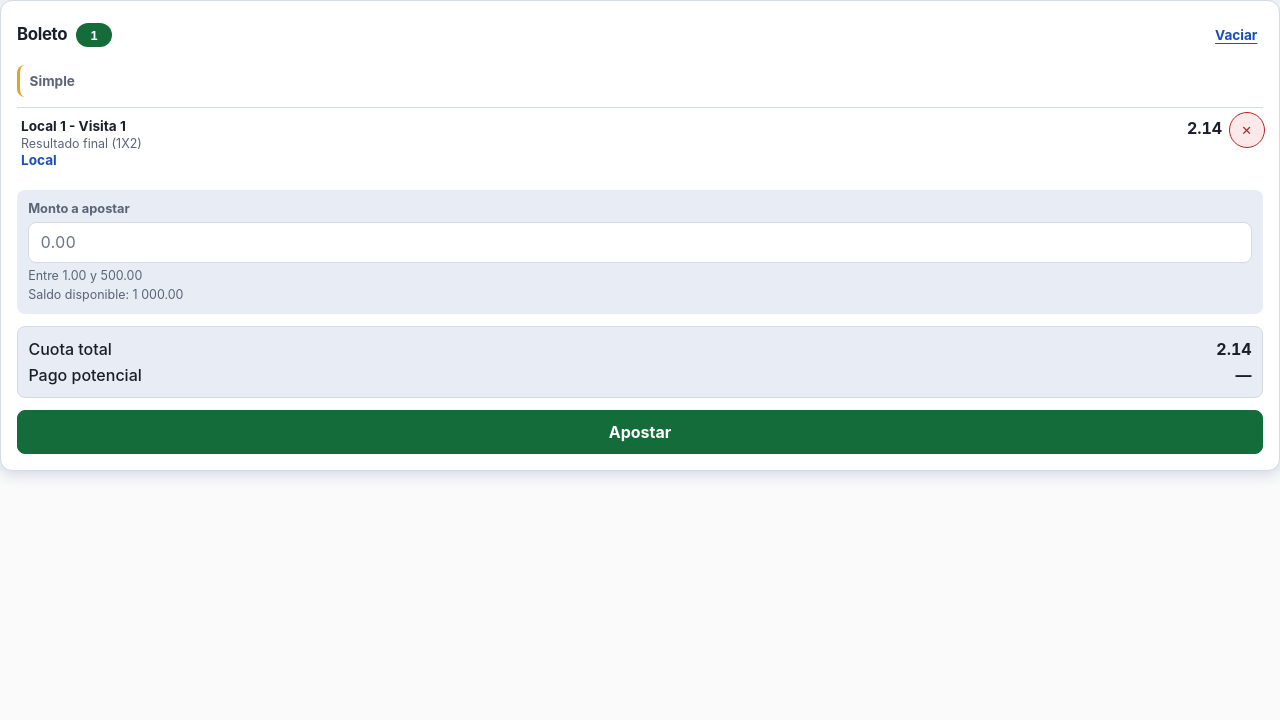
Scenario: BetSlipComponent › cuota cambiada: tacha la anterior, bloquea apostar hasta aceptar y luego apuesta
In the field with id "stake": {"x": 640, "y": 242} left=28, top=222, right=1252, bottom=263, type "10"
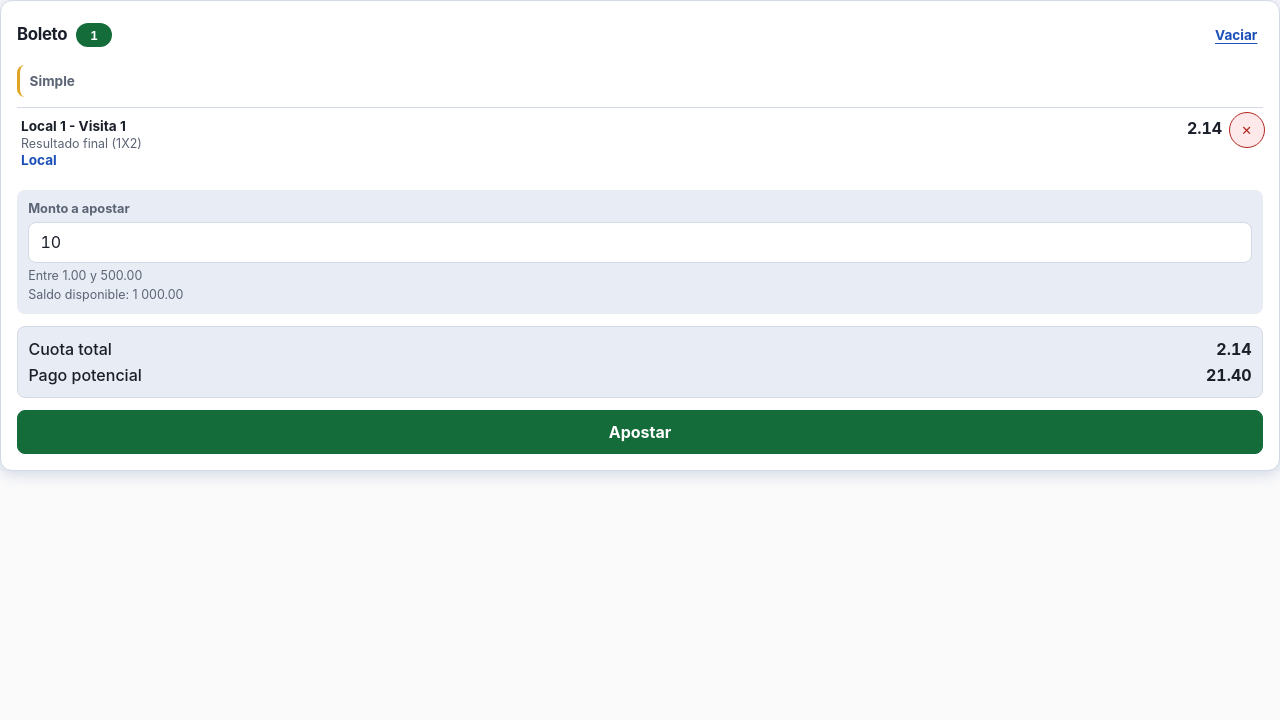
Click the button "Apostar": {"x": 640, "y": 432} left=17, top=410, right=1263, bottom=454
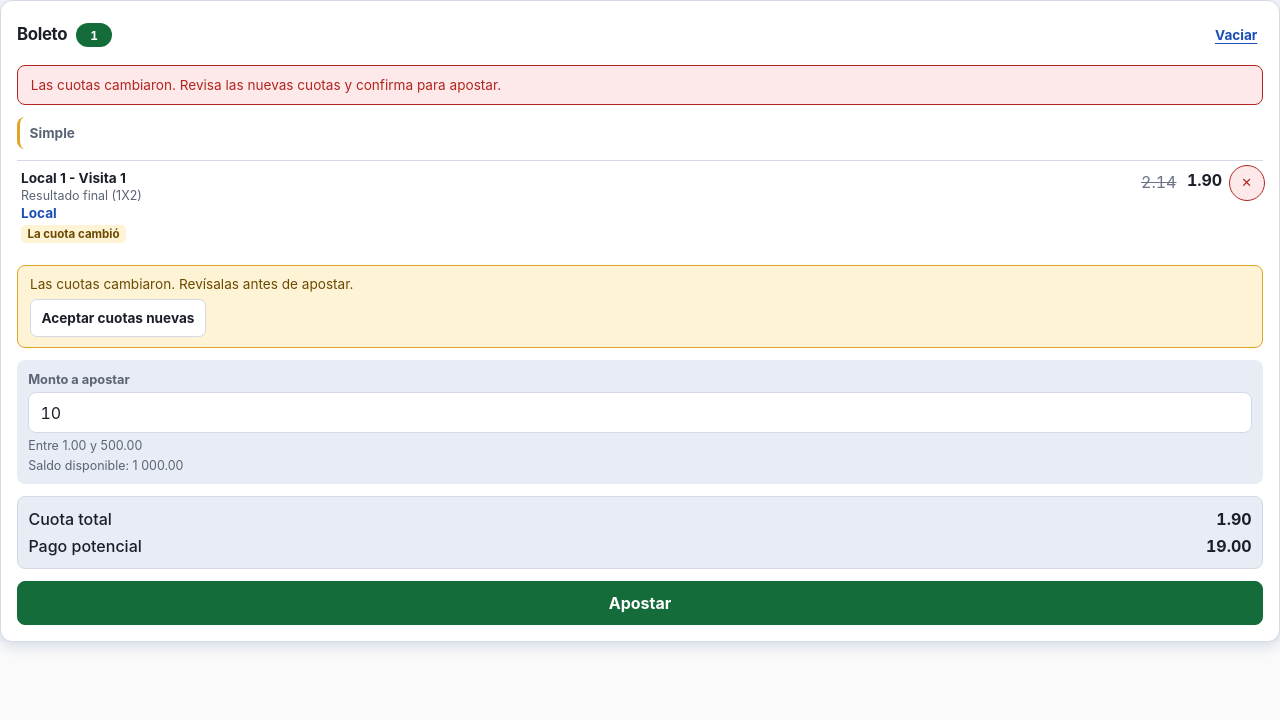
Now the text "Las cuotas cambiaron" is shown, box left=31, top=77, right=501, bottom=93
Now the text with class "odd" reads "1.90", box left=1187, top=170, right=1222, bottom=190
Now the text "La cuota cambió" is shown, box left=21, top=224, right=126, bottom=243
Click the button with class "secondary": {"x": 118, "y": 318} left=30, top=300, right=206, bottom=337
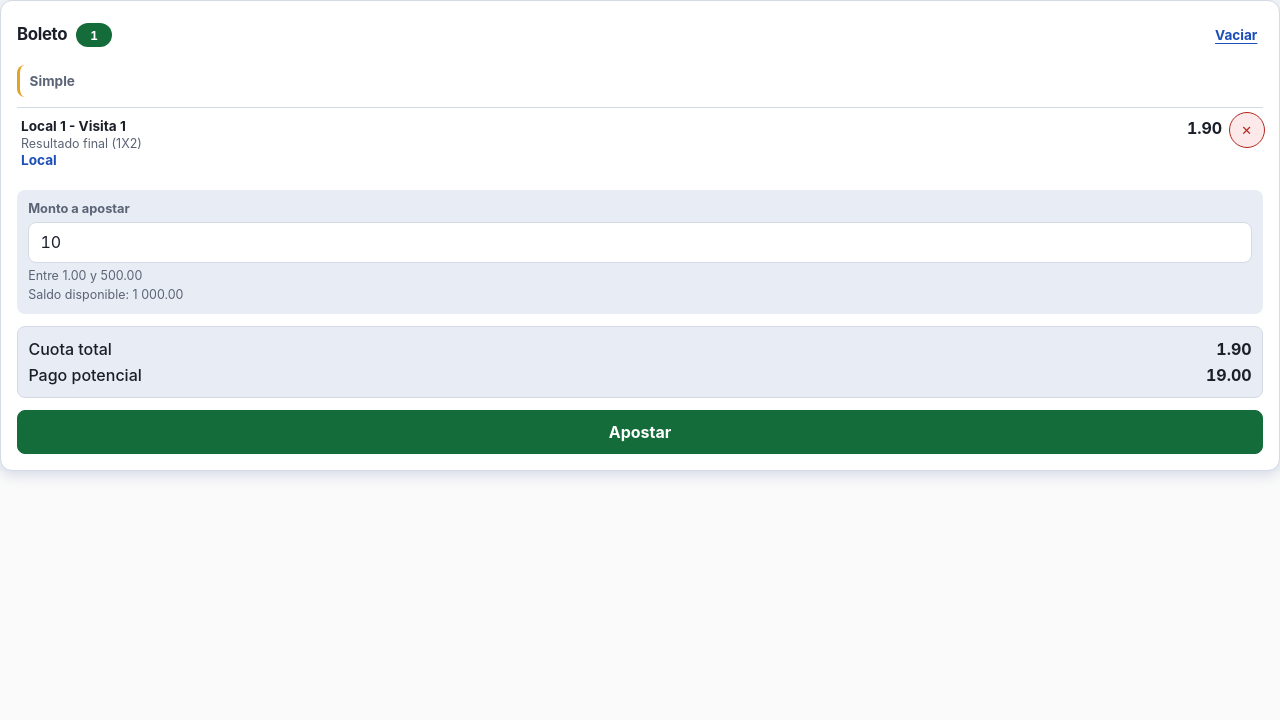
Now the text "Cuota total 1.90" is shown, box left=28, top=335, right=1252, bottom=362
Now the button "Apostar" is enabled
Click the button "Apostar": {"x": 640, "y": 432} left=17, top=410, right=1263, bottom=454
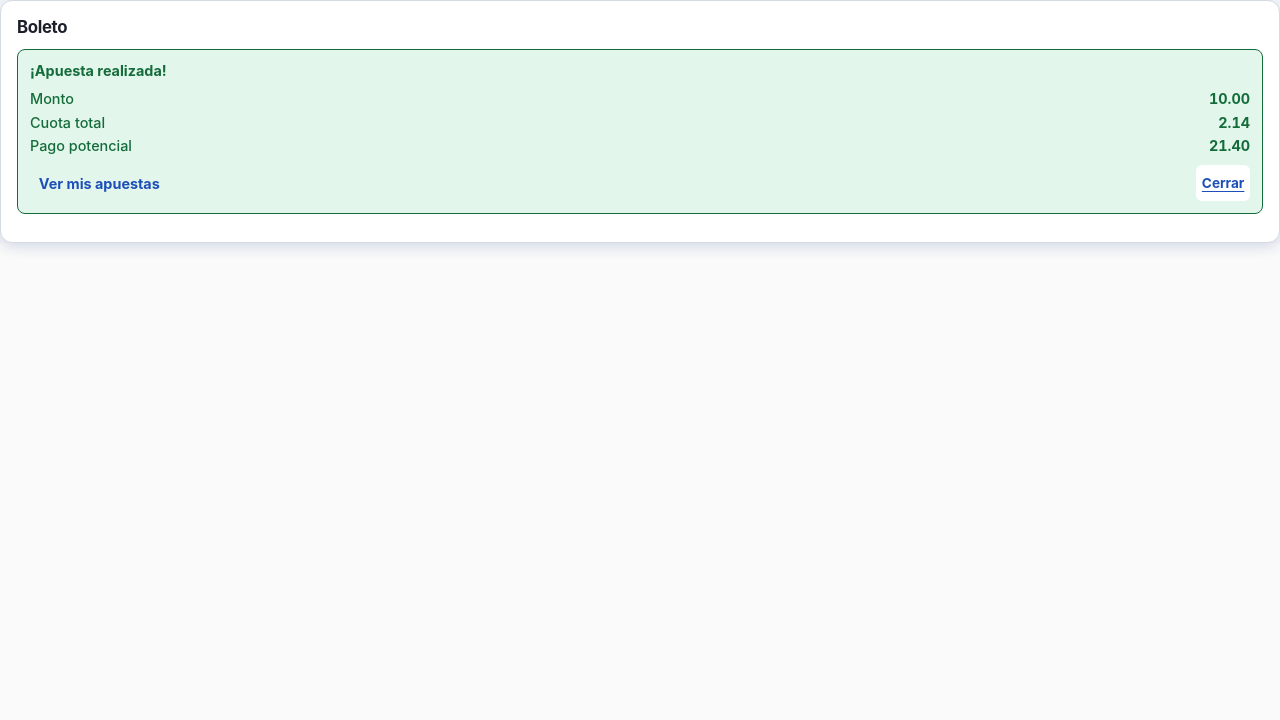
Now the text "¡Apuesta realizada!" is shown, box left=30, top=62, right=167, bottom=79
